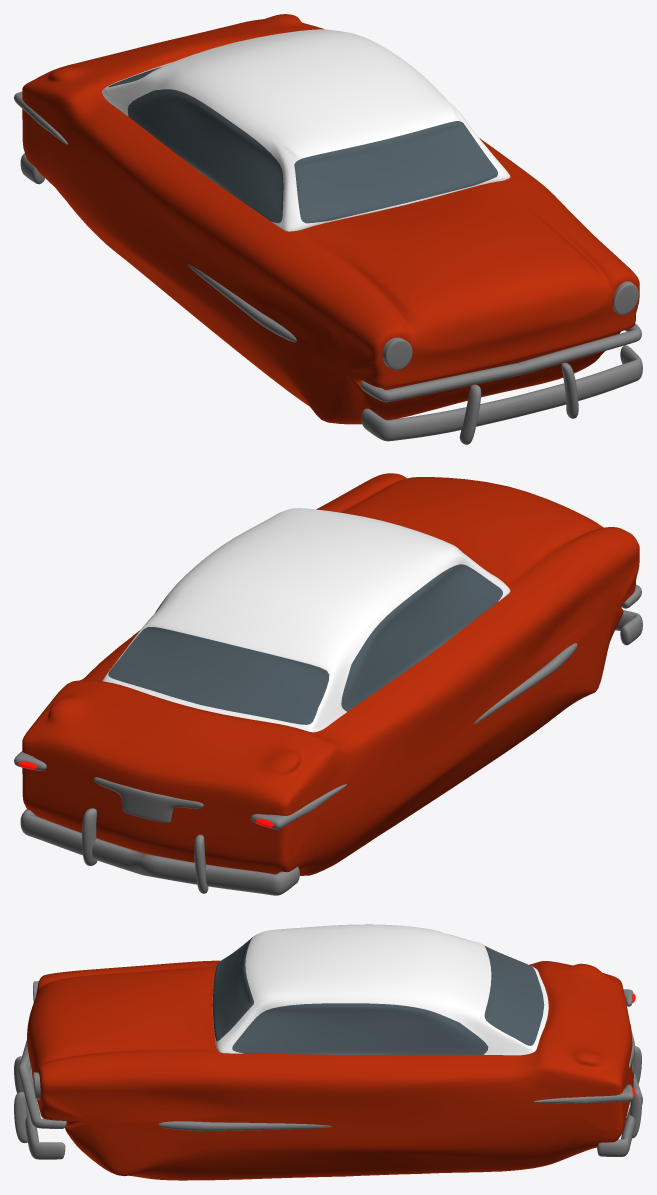
3 renders of one model, top to bottom at view 1: azimuth 30°, elevation 25°; view 2: azimuth 150°, elevation 25°; view 3: azimuth 270°, elevation 25°, orthographic. The views are drawn at different scales.
Visible parts, largest first — view 1: player_car; view 2: player_car; view 3: player_car.
Part boxes in pixels (x1,y1,x2,y2): player_car: [14, 14, 642, 444]; player_car: [14, 473, 642, 895]; player_car: [14, 924, 642, 1180].
Bounding box in the file's own units: 2.79 × 2.09 × 6.29.
